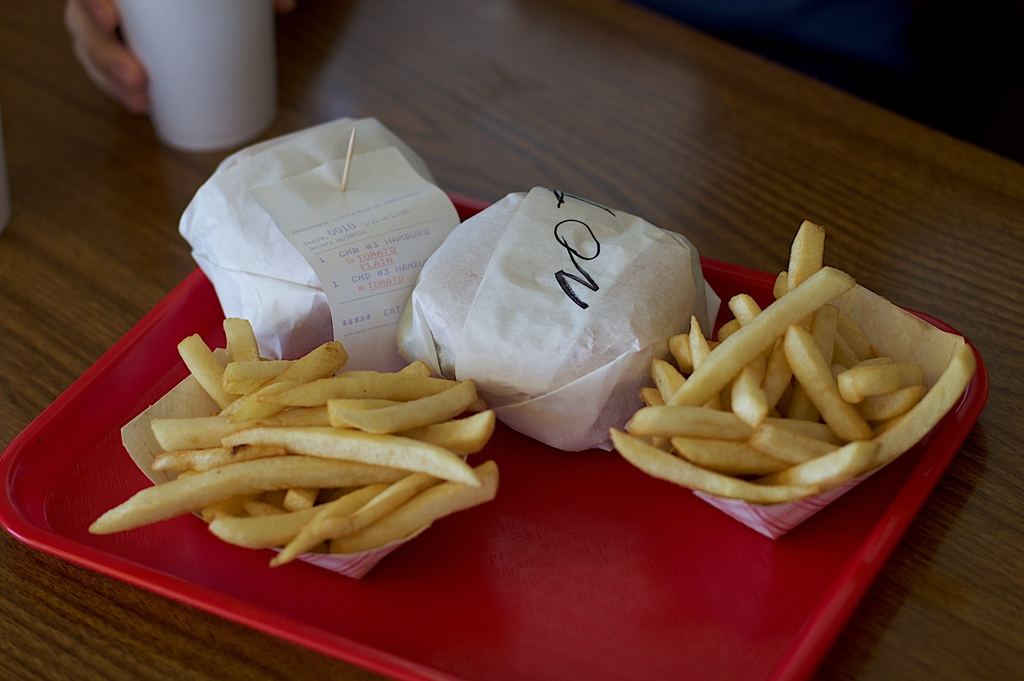French fries: (88, 317, 499, 570), (615, 218, 978, 503)
